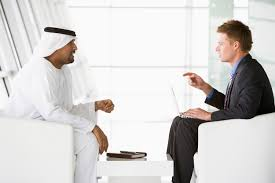middle_eastern_male: (46, 31, 80, 71)
